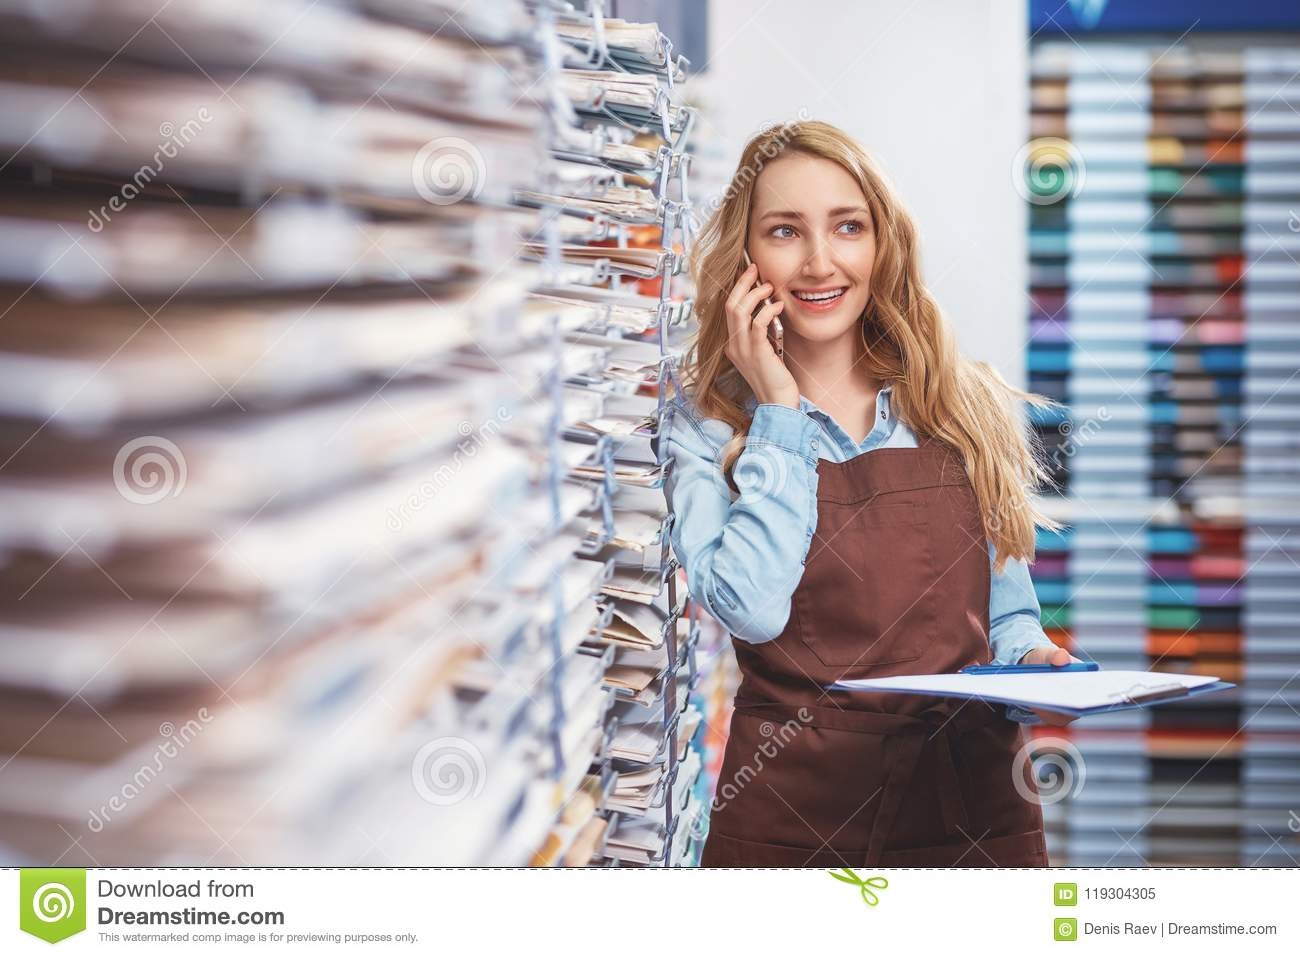phone: (741, 256, 790, 367)
talk: (719, 194, 875, 410)
